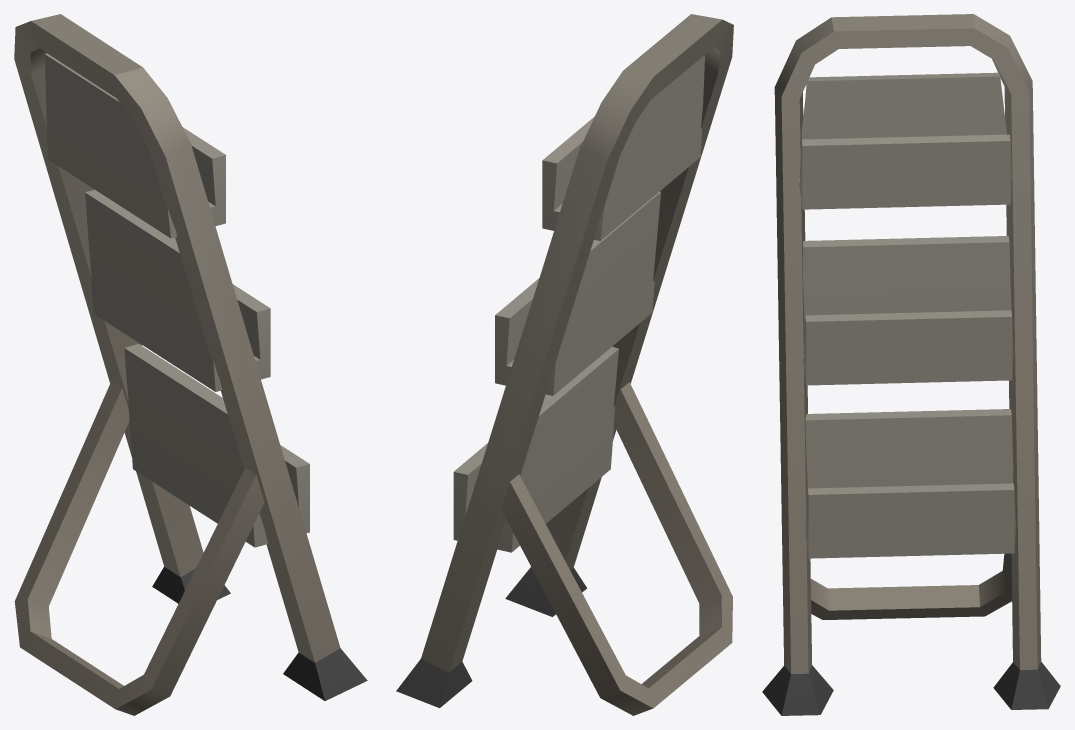
File: NewspaperH.glb
The picture shows the model from 3 angles, left to right: view 1: azimuth 30°, elevation 25°; view 2: azimuth 150°, elevation 25°; view 3: azimuth 270°, elevation 25°; orthographic projection. The views are drawn at different scales.
Parts seen in each view (by area): view 1: NewspaperH; view 2: NewspaperH; view 3: NewspaperH.
Part boxes in pixels (x1,y1,x2,y2): NewspaperH: (14, 14, 367, 715); NewspaperH: (396, 14, 733, 715); NewspaperH: (762, 14, 1060, 715).
Bounding box in the file's own units: 0.4872 × 1.25 × 0.5673.
1 material, 1 textured.
